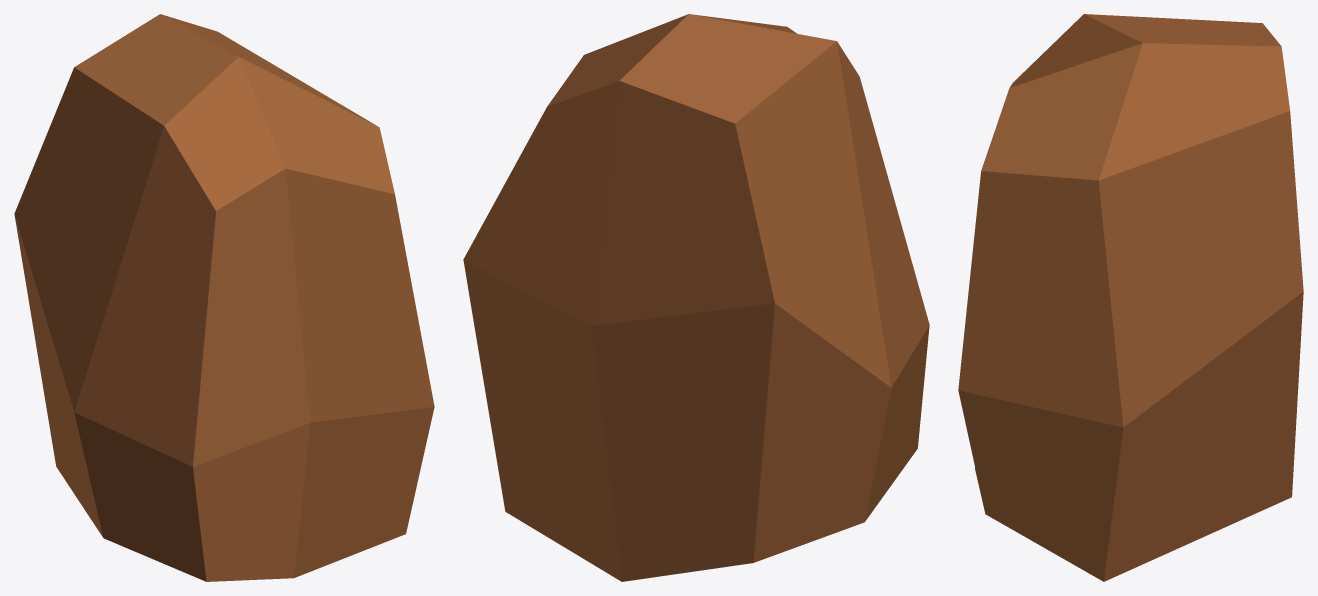
The model's file is egg_steven.fbx.
The picture shows the model from 3 angles, left to right: view 1: azimuth 30°, elevation 25°; view 2: azimuth 150°, elevation 25°; view 3: azimuth 270°, elevation 25°; orthographic projection. The views are drawn at different scales.
Visible parts, largest first — view 1: Cube.003; view 2: Cube.003; view 3: Cube.003.
Boxes of the visible parts, x1,y1,x2,y2 form: Cube.003: (14, 14, 434, 581); Cube.003: (463, 14, 929, 581); Cube.003: (958, 14, 1303, 581).
Bounding box in the file's own units: 221 × 330 × 216.
